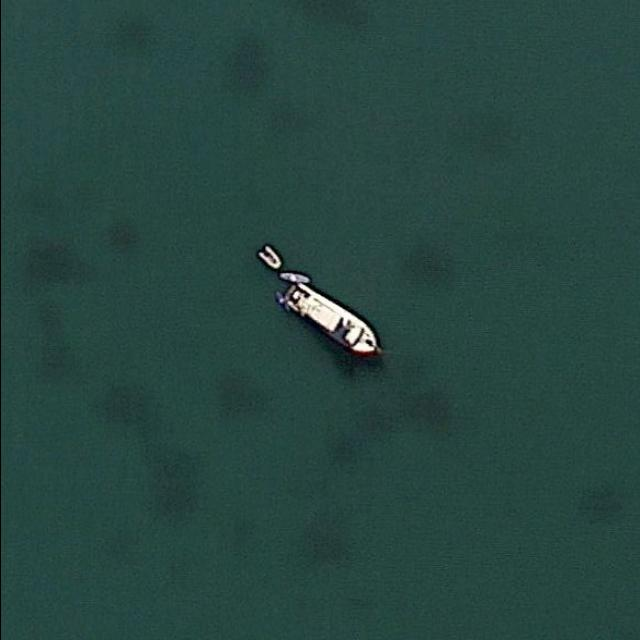ship: (275, 278, 387, 364)
